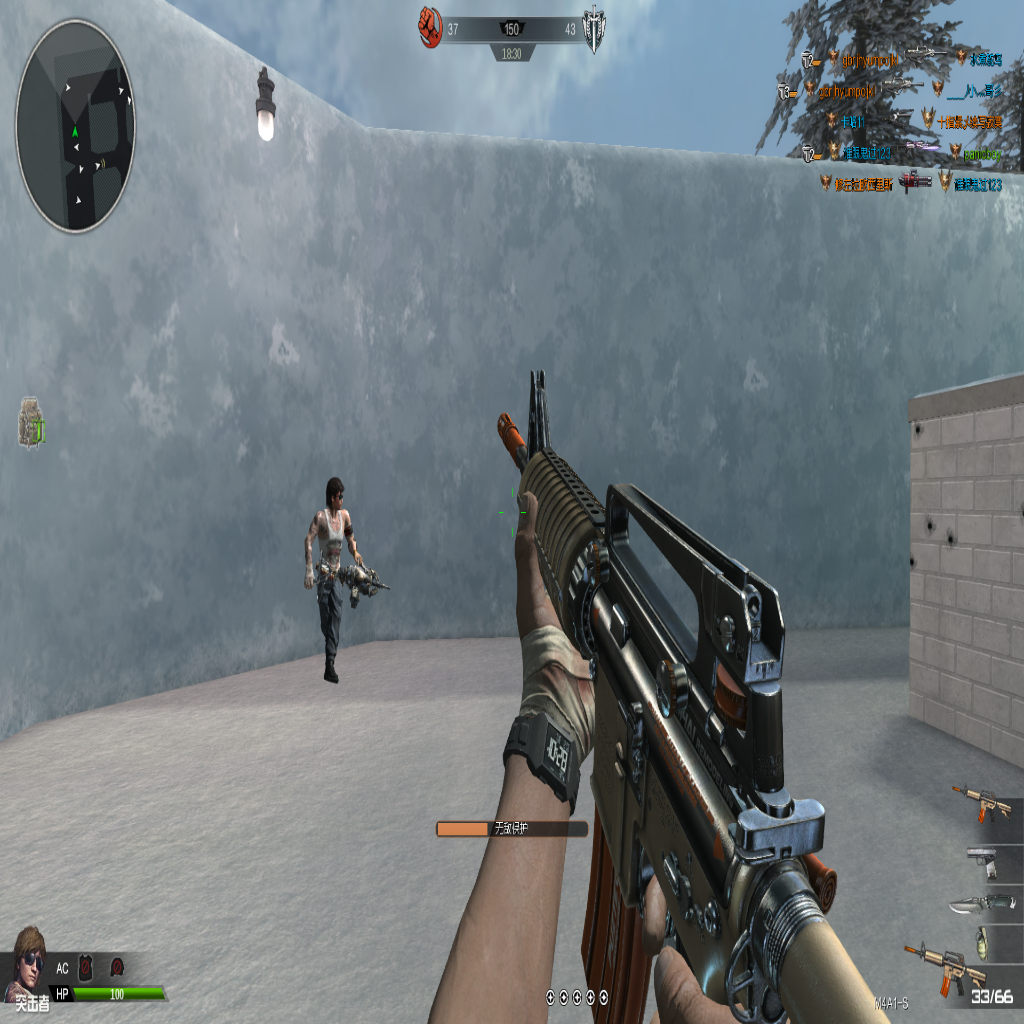tt: (308, 467, 371, 686)
